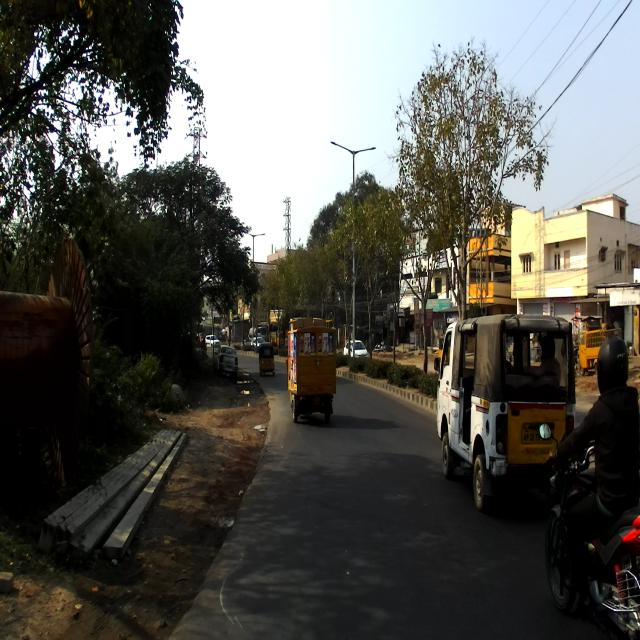auto ahead at: (284, 306, 342, 436)
car ahead at: (434, 309, 577, 495)
